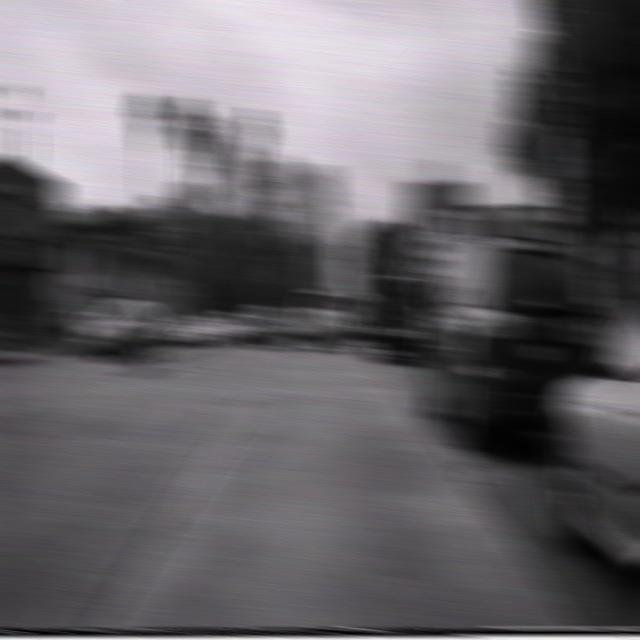speedLimit35: (538, 60, 581, 134), (144, 192, 174, 237)
